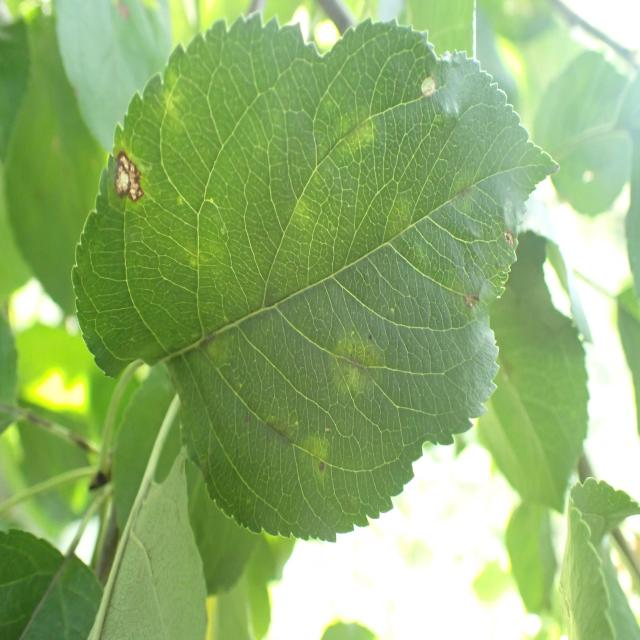frog-eye-leaf-spot: (71, 10, 560, 543)
